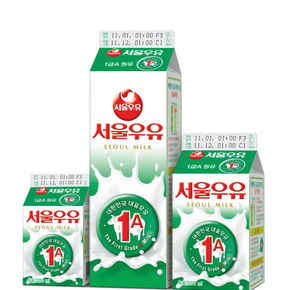milk: (89, 30, 182, 288), (171, 132, 266, 290), (23, 172, 89, 286)
